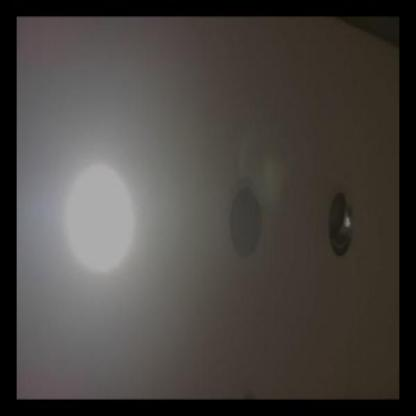light_off: (314, 173, 362, 270)
